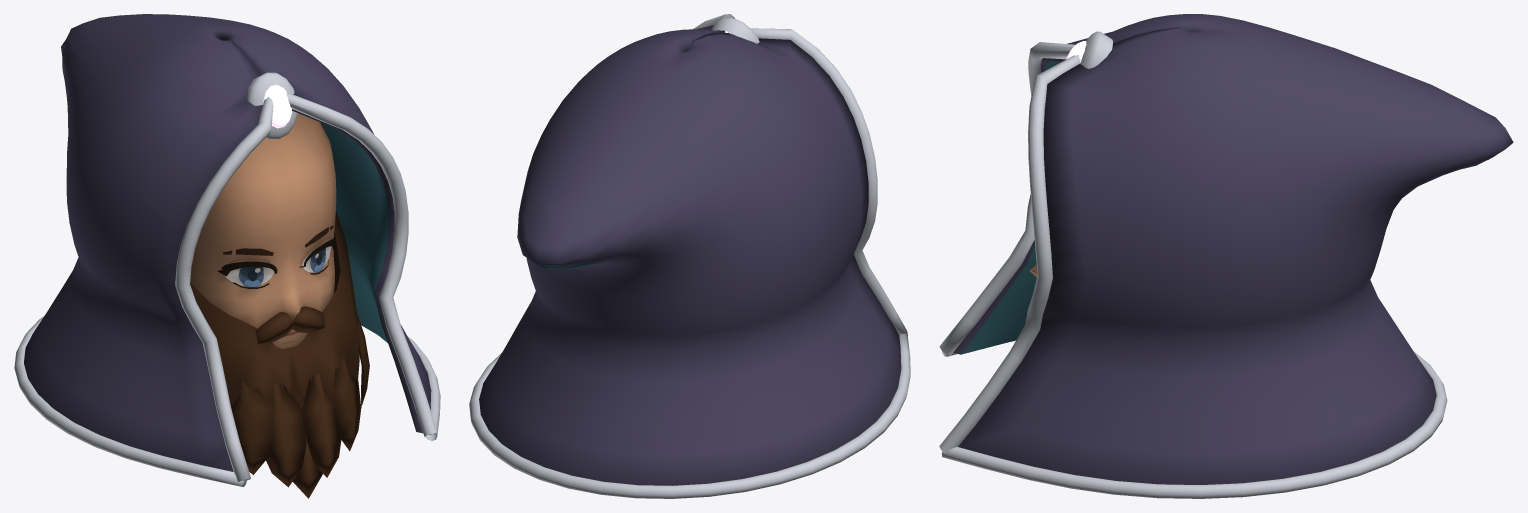
Rendered from h_oracle_d.glb.
3 renders of one model, left to right at view 1: azimuth 30°, elevation 25°; view 2: azimuth 150°, elevation 25°; view 3: azimuth 270°, elevation 25°, orthographic. The views are drawn at different scales.
Parts seen in each view (by area): view 1: Hood, HeadMesh, BeardLocks, Beard, Mustache, LashR; view 2: Hood; view 3: Hood.
Part boxes in pixels (x1,y1,x2,y2): Hood: (14,14,440,486); HeadMesh: (190,113,336,349); BeardLocks: (231,310,369,498); Beard: (190,210,359,408); Mustache: (256,306,324,343); LashR: (218,261,277,288); Hood: (469,14,910,498); Hood: (939,14,1513,498).
Size of the model in its own units: 0.3784 by 0.4128 by 0.4865.
